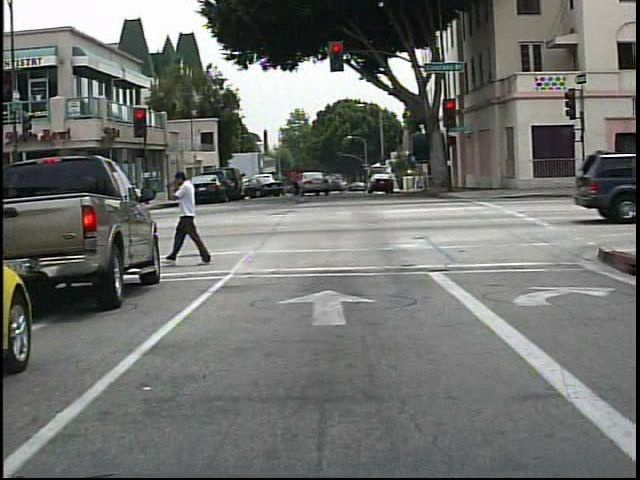person: (161, 169, 218, 268), (285, 162, 308, 207)
